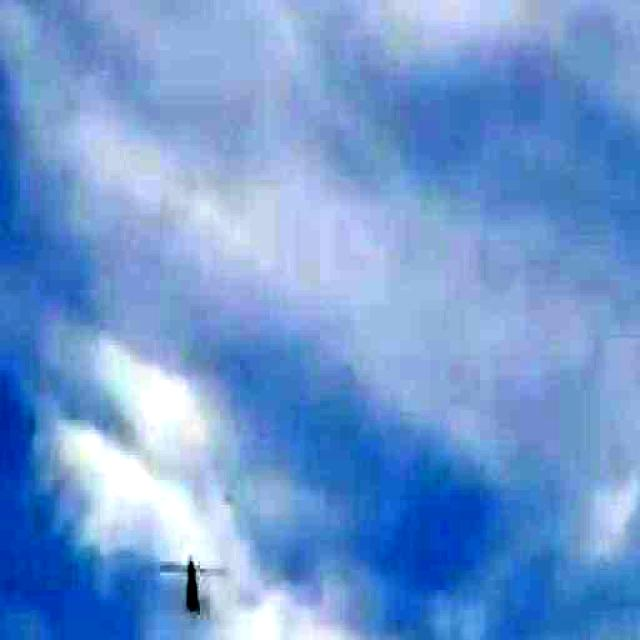drone: (158, 545, 228, 618)
